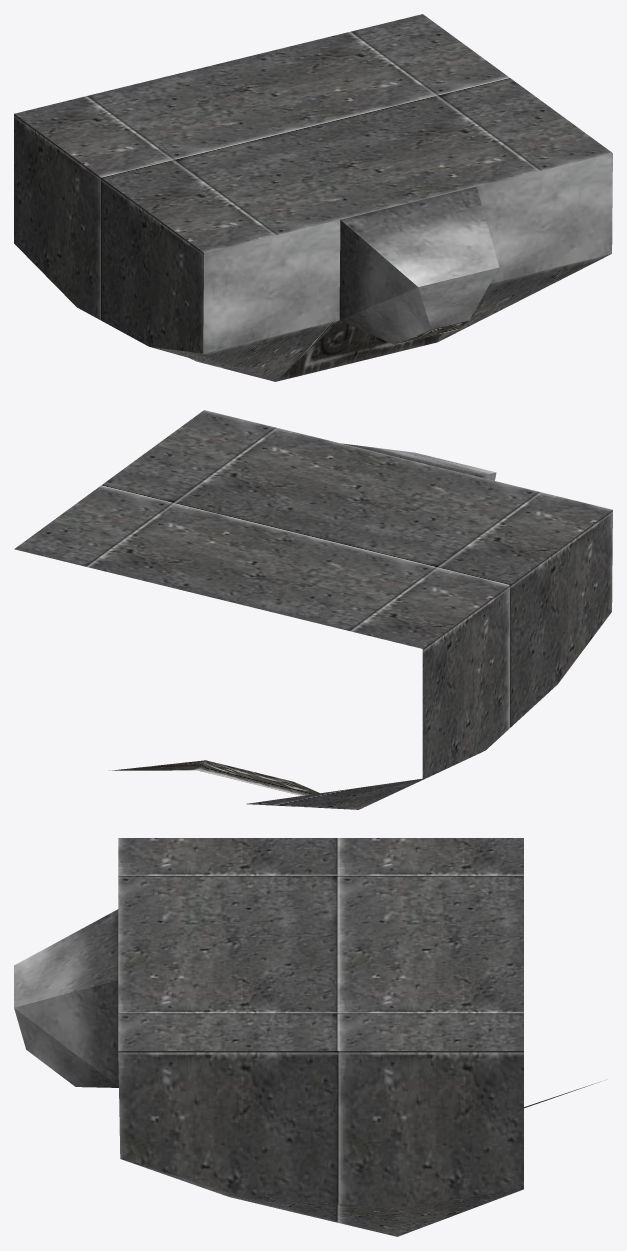
3 renders of one model, top to bottom at view 1: azimuth 30°, elevation 25°; view 2: azimuth 150°, elevation 25°; view 3: azimuth 270°, elevation 25°, orthographic. The views are drawn at different scales.
Parts seen in each view (by area): view 1: model_Object17; view 2: model_Object17; view 3: model_Object17.
Boxes of the visible parts, left/top/right/bottom form: model_Object17: left=14, top=14, right=612, bottom=381; model_Object17: left=14, top=410, right=612, bottom=809; model_Object17: left=14, top=838, right=600, bottom=1236.
Size of the model in its own units: 3 by 1.64 by 3.57.
4 materials, 4 textured.
